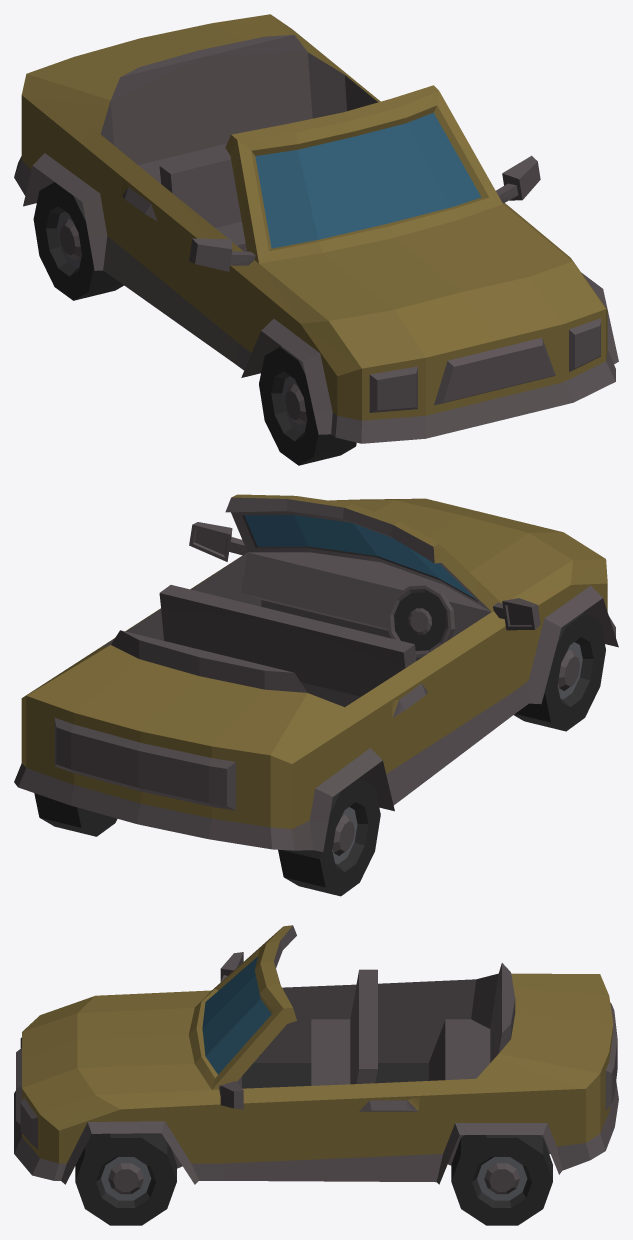
The model's file is LP_VehicleM.fbx.
3 views of the same model, one above another, from view 1: azimuth 30°, elevation 25°; view 2: azimuth 150°, elevation 25°; view 3: azimuth 270°, elevation 25° (orthographic). The views are drawn at different scales.
Parts seen in each view (by area): view 1: VehicleM; view 2: VehicleM; view 3: VehicleM.
Part boxes in pixels (x1,y1,x2,y2): VehicleM: (14, 14, 618, 465); VehicleM: (14, 494, 618, 896); VehicleM: (14, 925, 618, 1225).
Size of the model in its own units: 179 by 122 by 326.
